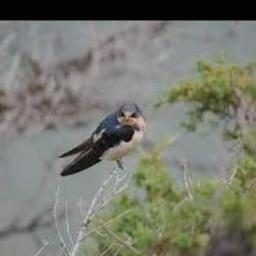Swallow: (57, 101, 145, 175)
